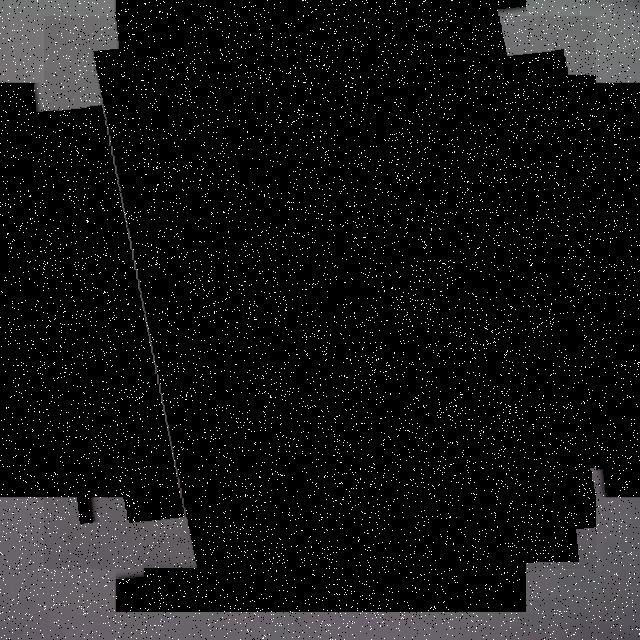dua ribu rupiah: (44, 16, 596, 569)
